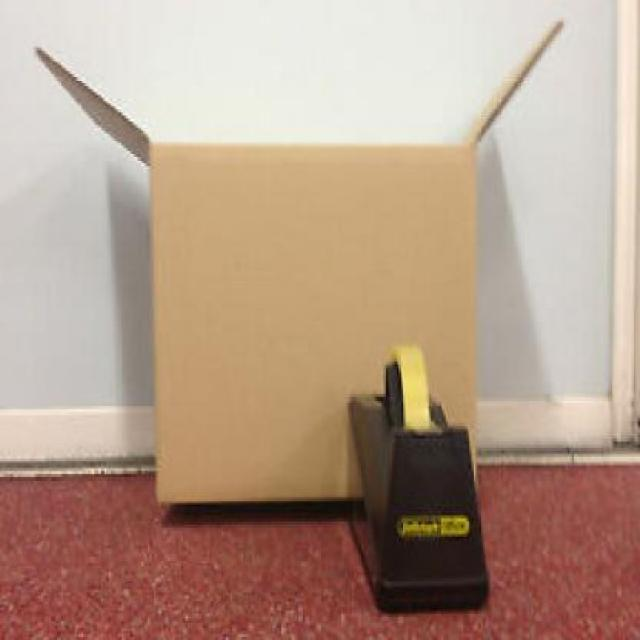box: (34, 23, 562, 505)
